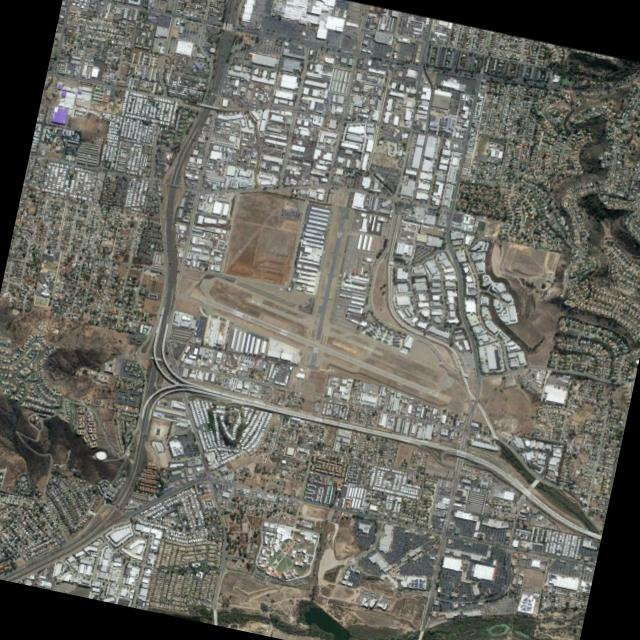storage-tank: (93, 448, 106, 461)
